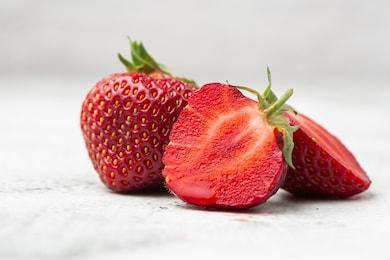Fresa: (76, 66, 213, 198)
